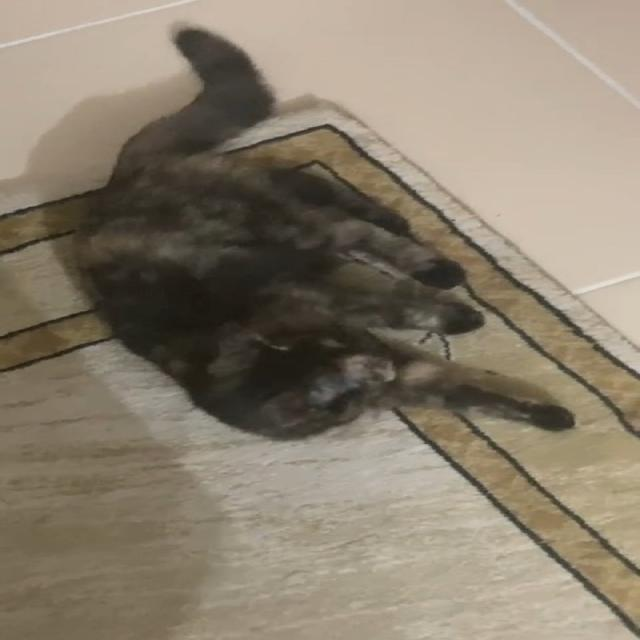authorized: (64, 20, 576, 442)
